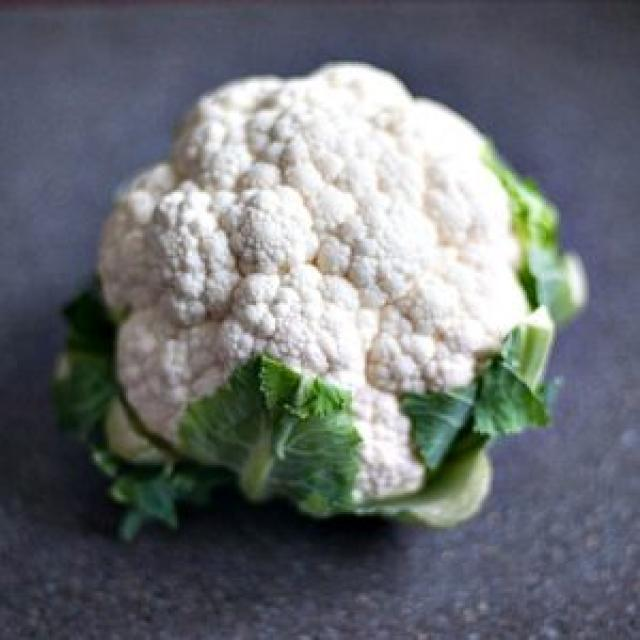cauliflower: (42, 17, 640, 582)
